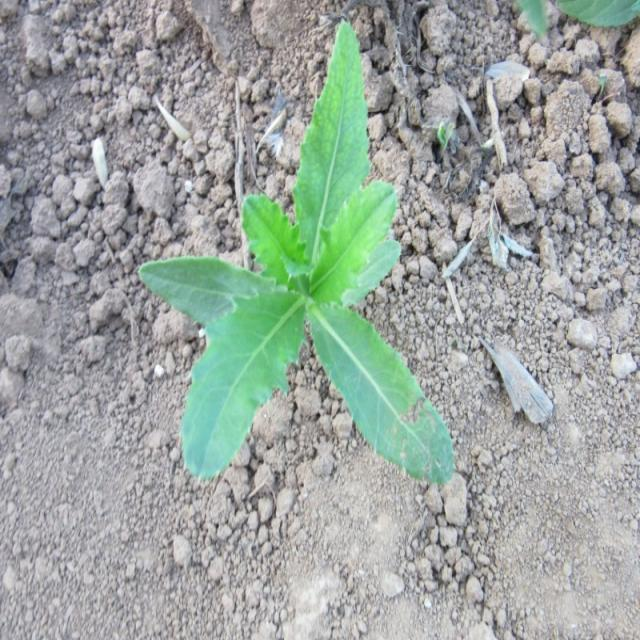cs: (136, 17, 457, 486)
